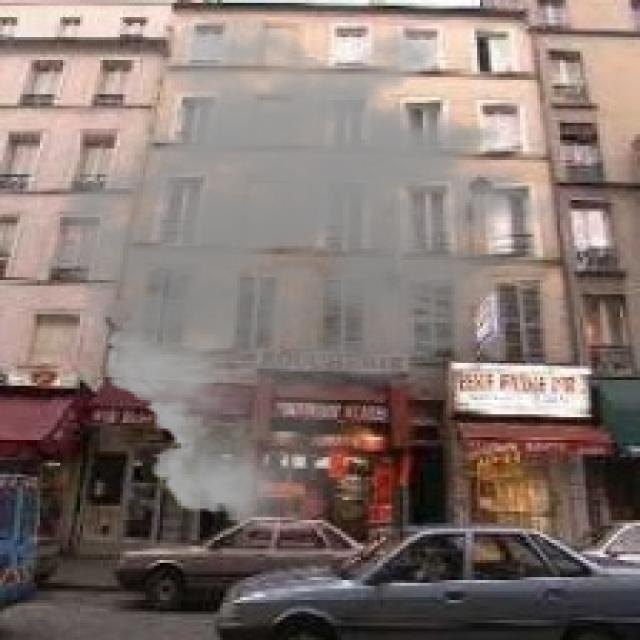smoke: (34, 11, 592, 540)
